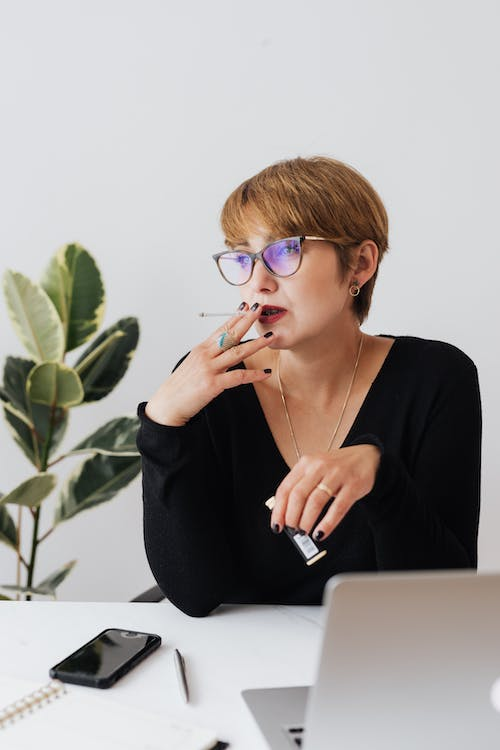cigarette: (196, 308, 253, 318)
